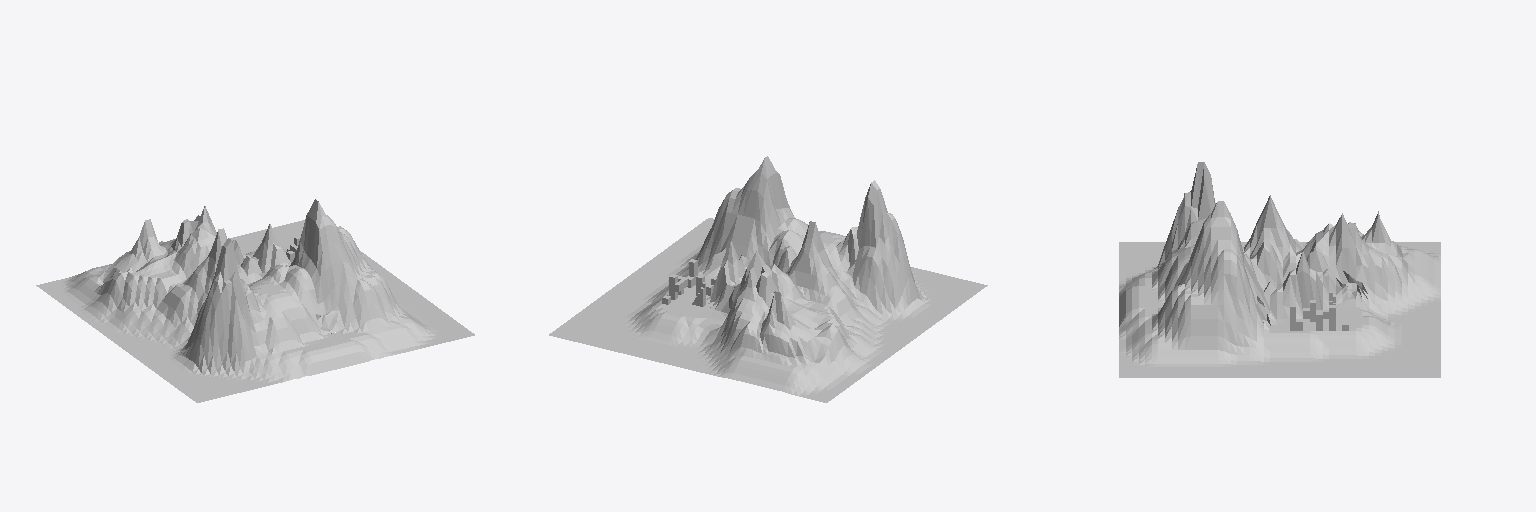
The model's file is Map1WIP_Triangle.obj.
3 renders of one model, left to right at view 1: azimuth 30°, elevation 25°; view 2: azimuth 150°, elevation 25°; view 3: azimuth 270°, elevation 25°, orthographic.
Visible parts, largest first — view 1: Plane; view 2: Plane; view 3: Plane.
Part boxes in pixels (x1,y1,x2,y2): Plane: (36, 199, 474, 402); Plane: (549, 156, 987, 402); Plane: (1119, 162, 1440, 377).
Size of the model in its own units: 40 by 19.15 by 40.